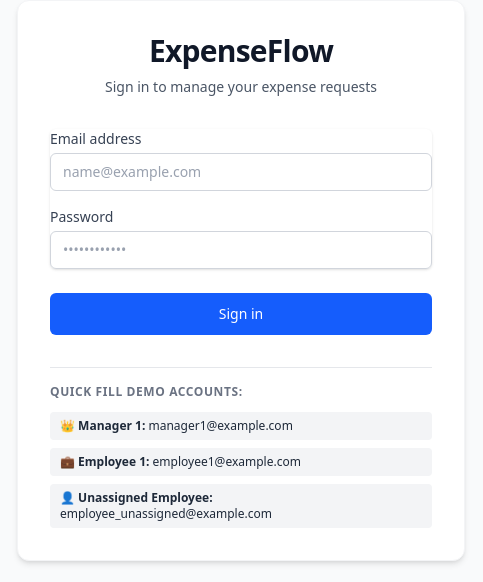
Test: LoginPage Component & In-Memory Auth › quick fills demo credentials when clicking quick-fill buttons
The width and height of the screenshot is (483, 582).
Click the text "Manager 1:". click: [112, 425]
box: [78,416,145,434]
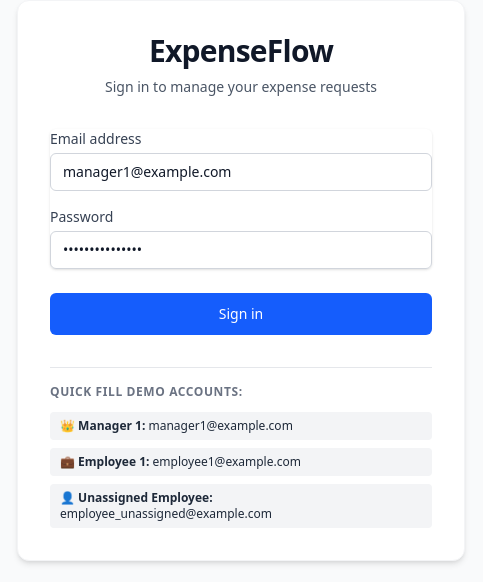
Check: the field labelled "Email address" holds "manager1@example.com", box [50,152,432,190]
Check: the password field labelled "Password" holds "Password123456!", box [50,230,432,268]
